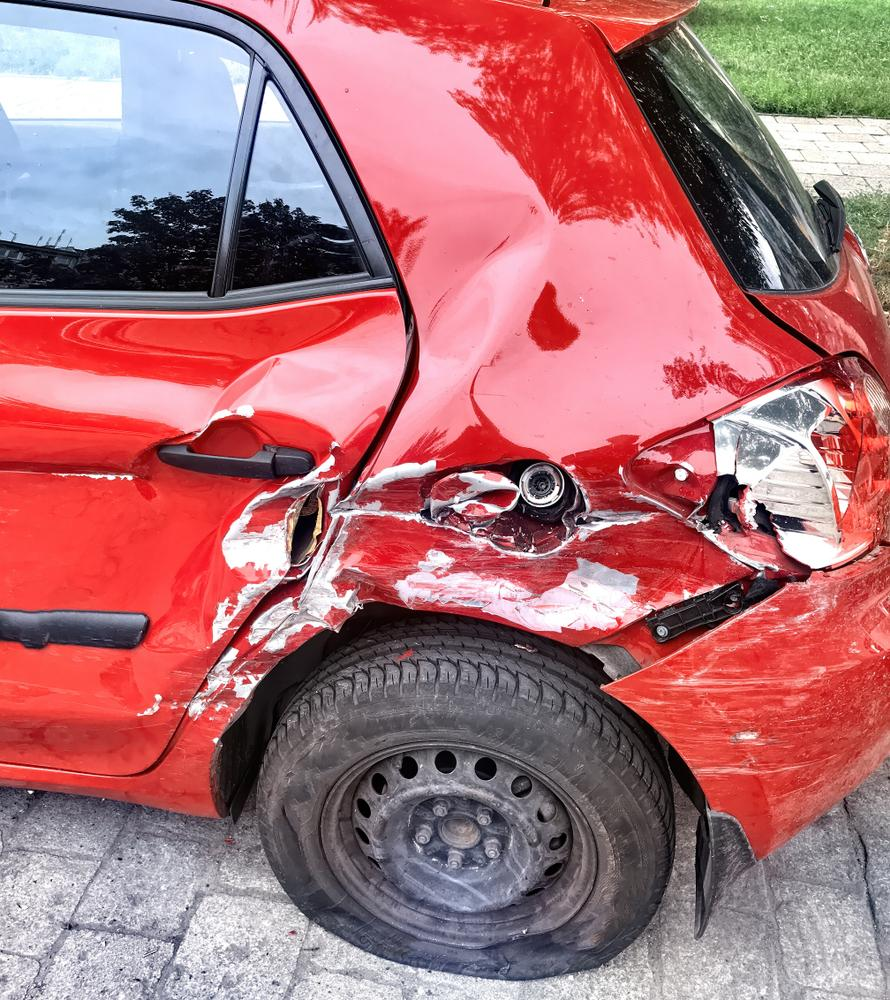crack: (290, 484, 322, 568)
dent: (194, 461, 747, 727), (364, 164, 547, 423), (144, 484, 317, 653), (88, 299, 349, 375)
lamp broken: (618, 352, 890, 578)
scratch: (646, 573, 839, 814)
tire flat: (259, 615, 676, 983)
